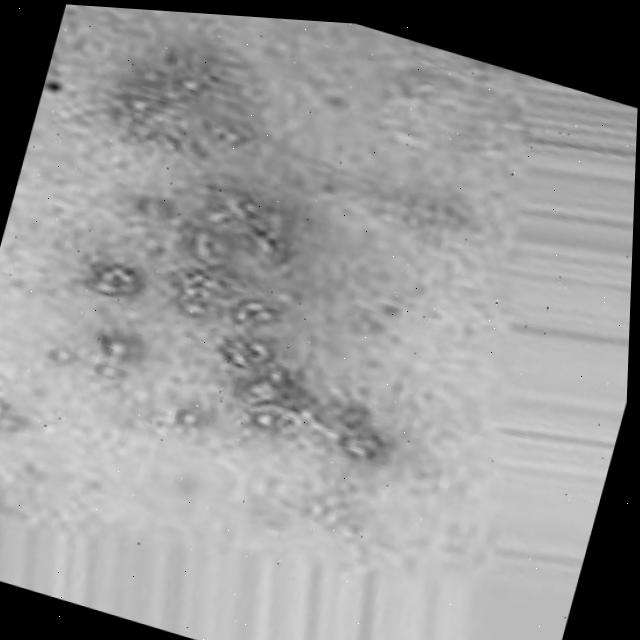Shingles: (12, 3, 491, 483)
